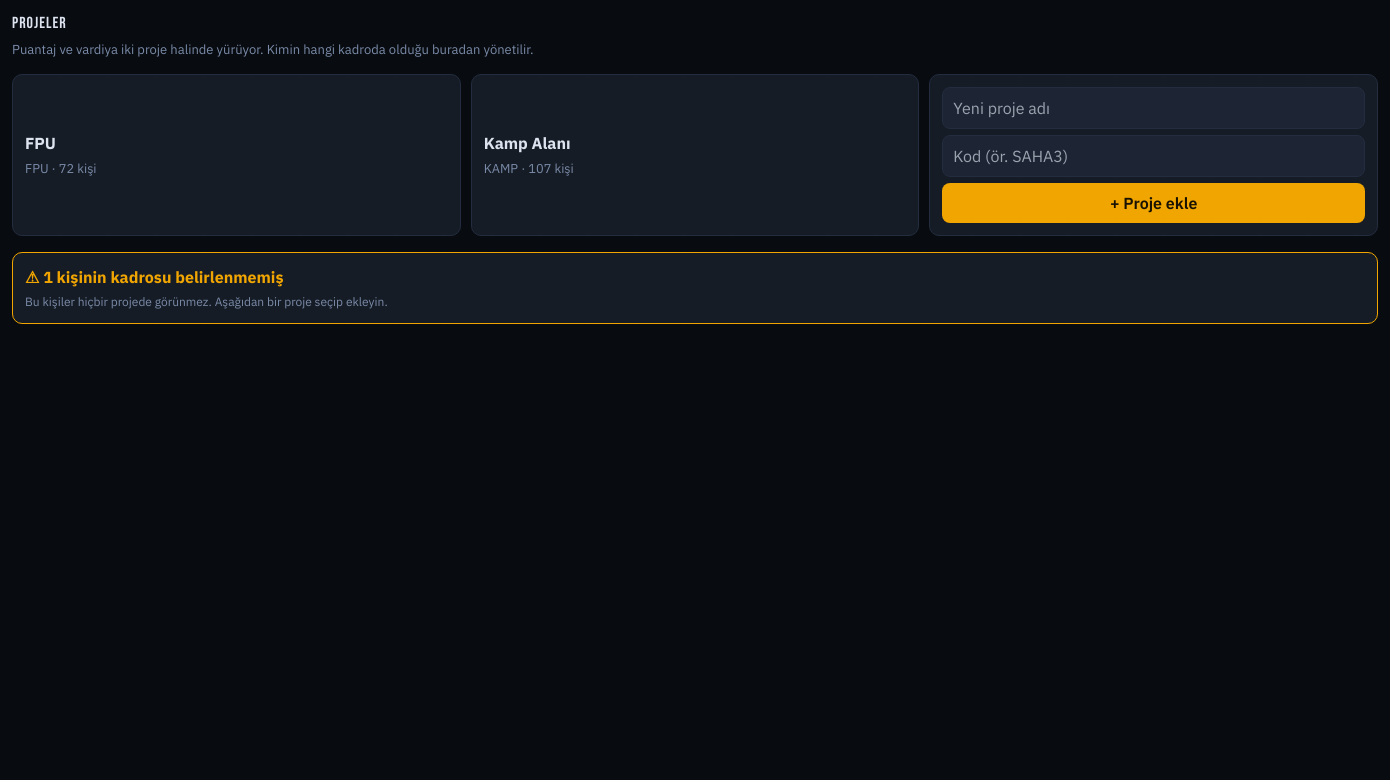
Test: Projeler ekranı › proje seçilince kadro ve kadrosuz listeleri gelir
This screenshot has width=1390, height=780.
Click the text "FPU" at (40, 142), box [25, 132, 56, 152]
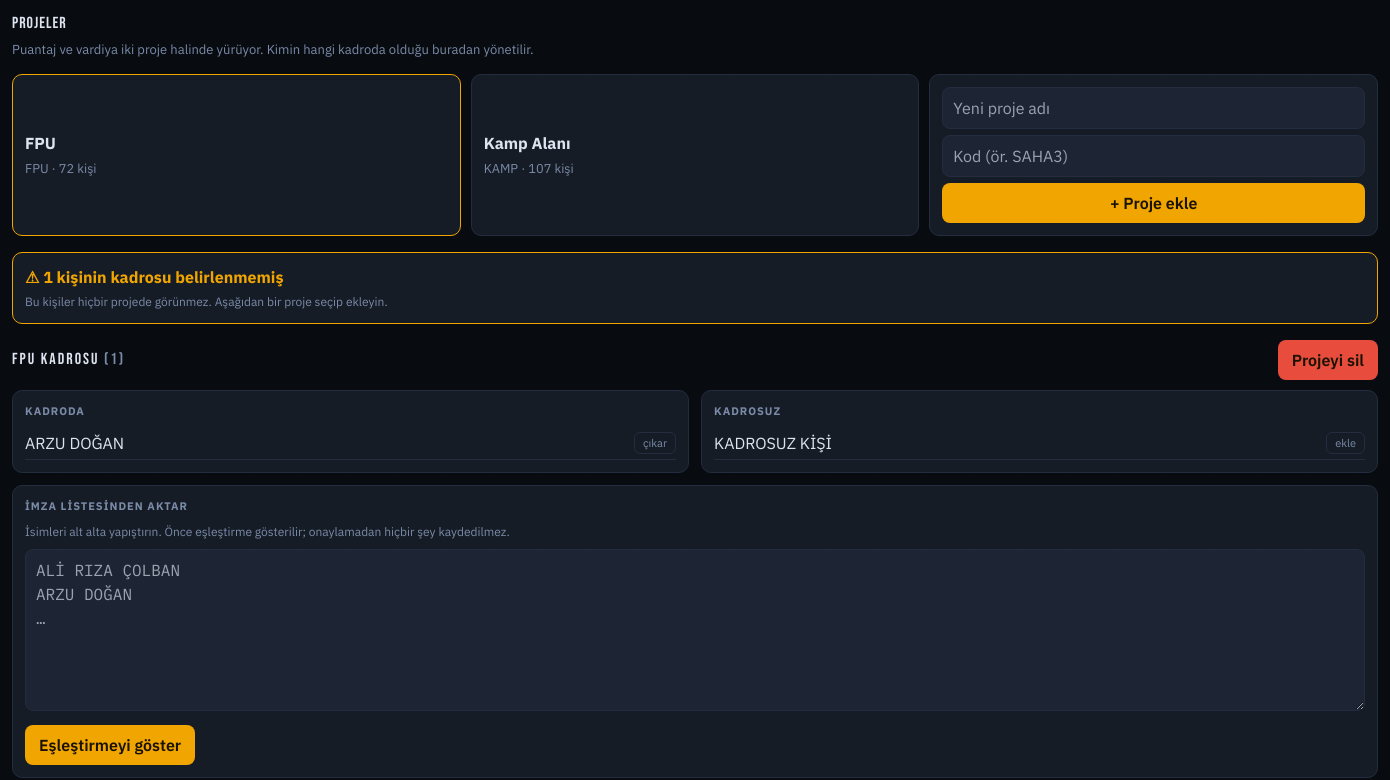
expect the text "ARZU DOĞAN" is shown: met, box [25, 431, 124, 455]
expect the text "KADROSUZ KİŞİ" is shown: met, box [714, 431, 832, 455]
